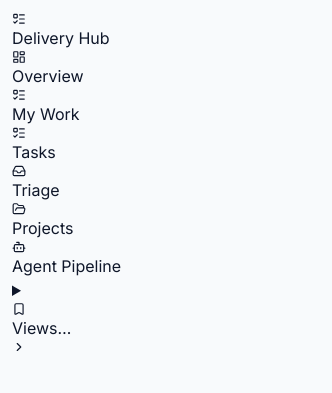
Scenario: AppSidebar › keeps Views open when an in-flight request resolves
The image size is (332, 393).
Click the text "Views": (35, 328) [12,318,58,338]
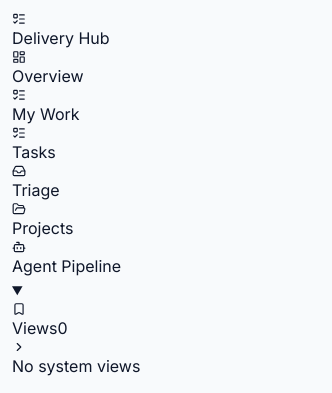
Check: the text "No system views" is shown, box [12,356,140,376]
